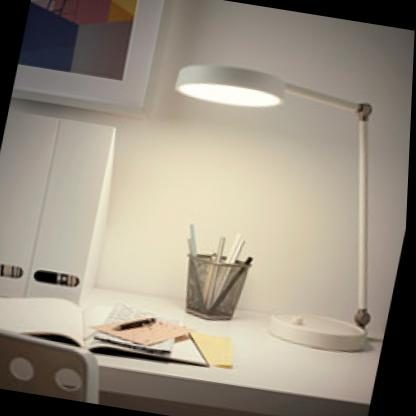Lamp: (122, 37, 415, 362)
